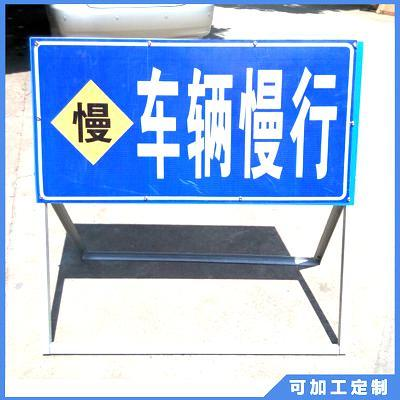sign: (32, 37, 352, 203)
